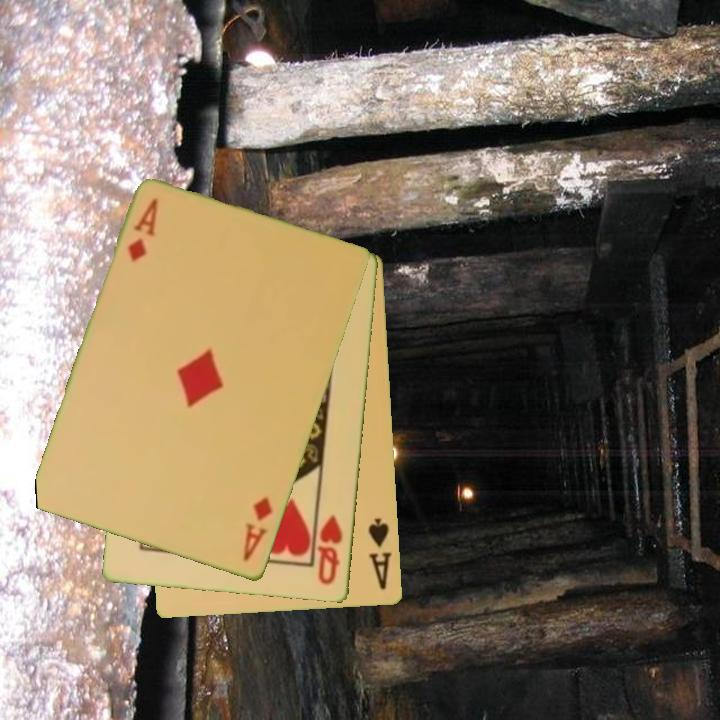Ad: (239, 493, 276, 566), (124, 195, 161, 266)
As: (365, 514, 395, 593)
Qh: (314, 512, 346, 588)
